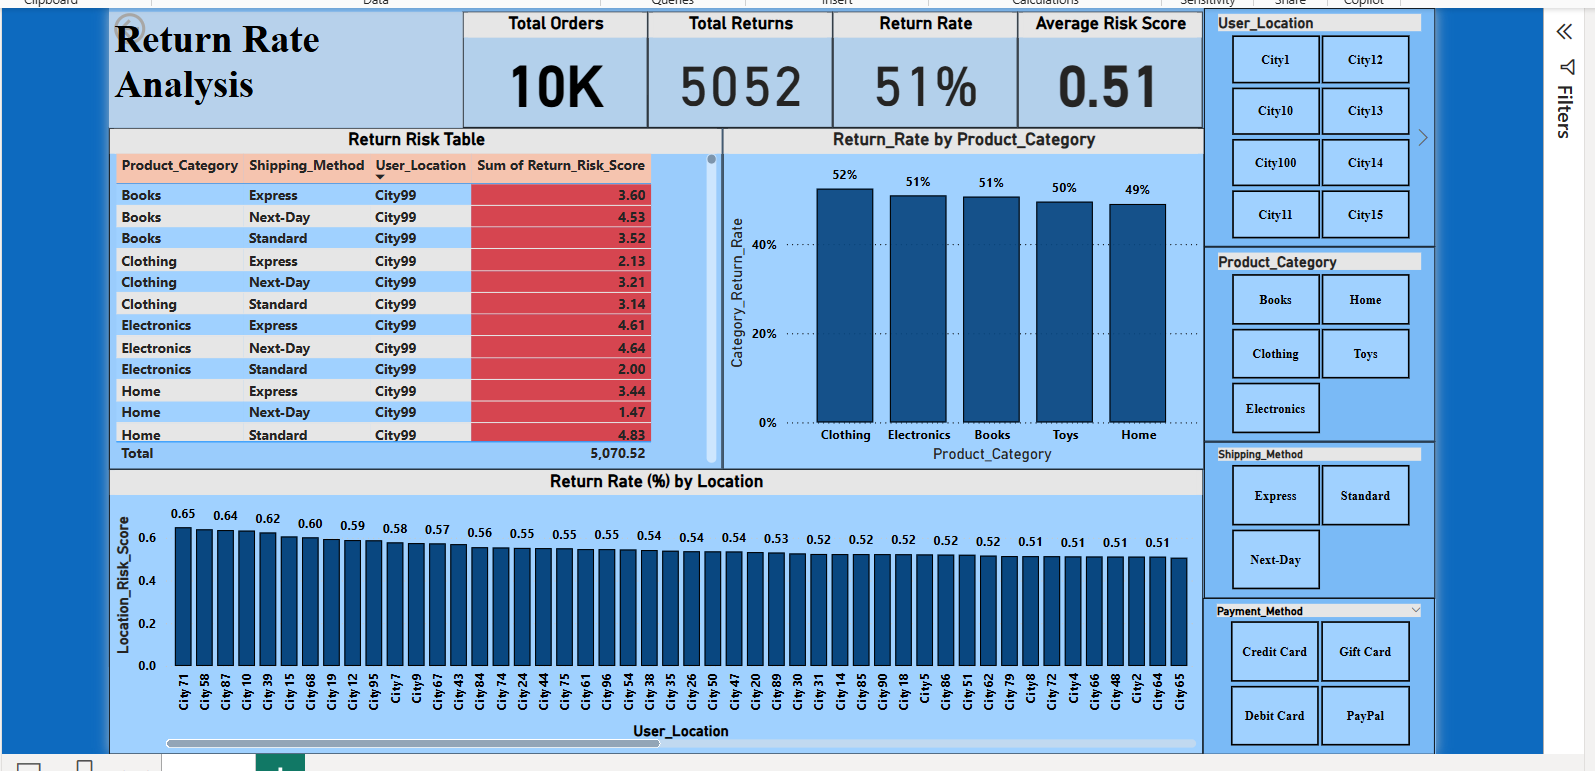

This screenshot's page, from the dashboard's own definition file:
{"tool":"powerbi","page":{"name":"Page 1","canvas":[1280,720],"ordinal":0},"visuals":[{"type":"clusteredColumnChart","title":"Return_Rate by Product_Category","fields":{"Y":["Dax_measures.Category_Return_Rate"],"Category":["ecommerce_returns_with_risk.Product_Category"]},"box":[592.4,115.8,464.5,329.4],"z":0},{"type":"clusteredColumnChart","title":"Return Rate (%) by Location","fields":{"Category":["ecommerce_returns_with_risk.User_Location"],"Y":["Dax_measures.Location_Risk_Score"]},"box":[0,445.2,1055.6,275.1],"z":1},{"type":"actionButton","box":[0,0,100,40],"z":4},{"type":"slicer","fields":{"Values":["ecommerce_returns_with_risk.User_Location"]},"box":[1056.8,0,223.2,230.4],"z":5},{"type":"slicer","fields":{"Values":["ecommerce_returns_with_risk.Product_Category"]},"box":[1056.8,230.4,223.2,188.2],"z":6},{"type":"slicer","fields":{"Values":["ecommerce_returns_with_risk.Shipping_Method"]},"box":[1056.8,418.6,223.2,150.8],"z":7},{"type":"slicer","fields":{"Values":["ecommerce_returns_with_risk.Payment_Method"]},"box":[1055.6,569.4,224.4,150.8],"z":8},{"type":"card","title":"Return Rate","fields":{"Values":["Dax_measures.Return_Rate (%)"]},"box":[698.5,3.6,178.6,112.2],"z":10},{"type":"card","title":"Average Risk Score","fields":{"Values":["Dax_measures.Avg_Risk_Score"]},"box":[877.1,3.6,178.6,112.2],"z":11},{"type":"card","title":"Total Returns","fields":{"Values":["Dax_measures.Total_Returns"]},"box":[520,3.6,178.6,112.2],"z":12},{"type":"card","title":"Total Orders","fields":{"Values":["Dax_measures.Total_Orders"]},"box":[341.4,3.6,178.6,112.2],"z":13},{"type":"tableEx","title":"Return Risk Table","fields":{"Values":["ecommerce_returns_with_risk.Product_Category","ecommerce_returns_with_risk.Shipping_Method","ecommerce_returns_with_risk.User_Location","Sum(ecommerce_returns_with_risk.Return_Risk_Score)"]},"box":[0,115.8,592.4,329.4],"z":14},{"type":"textbox","box":[0,3.6,341.4,112.2],"z":15}]}

Visuals, with their boxes on the page's 1280x720 design canvas (x1, y1, x2, y2). These are canvas units, not pixel positions in the 1595x771 screenshot, which may show the page scaled, cropped or inside an application window:
"Return_Rate by Product_Category" clusteredColumnChart: 592, 116, 1057, 445
"Return Rate (%) by Location" clusteredColumnChart: 0, 445, 1056, 720
actionButton: 0, 0, 100, 40
slicer - ecommerce_returns_with_risk.User_Location: 1057, 0, 1280, 230
slicer - ecommerce_returns_with_risk.Product_Category: 1057, 230, 1280, 419
slicer - ecommerce_returns_with_risk.Shipping_Method: 1057, 419, 1280, 569
slicer - ecommerce_returns_with_risk.Payment_Method: 1056, 569, 1280, 720
"Return Rate" card: 698, 4, 877, 116
"Average Risk Score" card: 877, 4, 1056, 116
"Total Returns" card: 520, 4, 699, 116
"Total Orders" card: 341, 4, 520, 116
"Return Risk Table" tableEx: 0, 116, 592, 445
textbox: 0, 4, 341, 116
